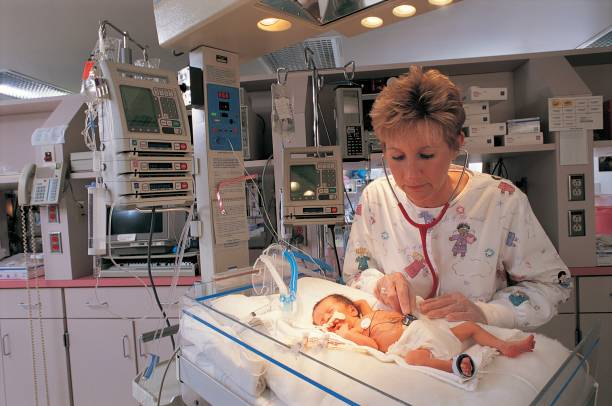bedside_monitor: (124, 86, 176, 127), (285, 163, 322, 202)
breathing_tube: (260, 242, 334, 304)
computer: (99, 208, 171, 250)
counter: (1, 272, 186, 403)
countertop: (1, 240, 228, 293)
handle: (1, 333, 10, 357), (137, 334, 146, 357), (19, 301, 42, 309), (155, 299, 180, 306), (121, 335, 128, 359), (84, 301, 108, 308)
iv_pole: (270, 45, 363, 148)
keyboard: (103, 257, 195, 275)
panda_baby_warmer: (151, 1, 602, 405)
patient: (312, 292, 536, 381)
staff: (340, 64, 575, 323)
telephone: (18, 162, 68, 207)
